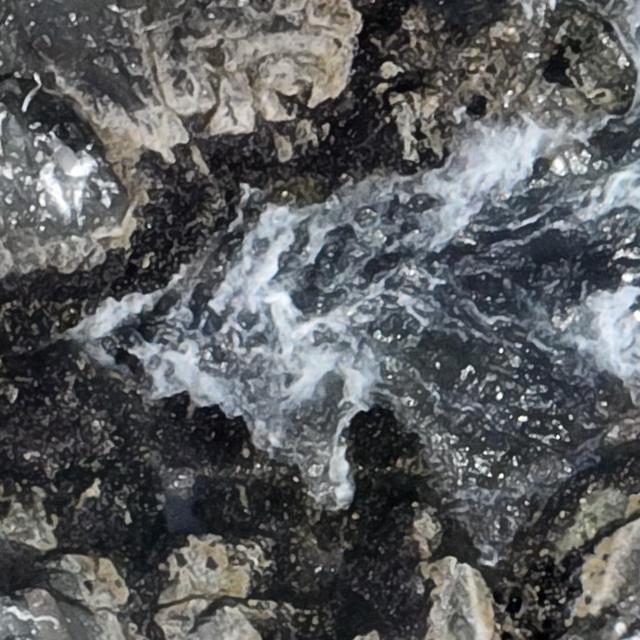umineko: (47, 142, 89, 178)
